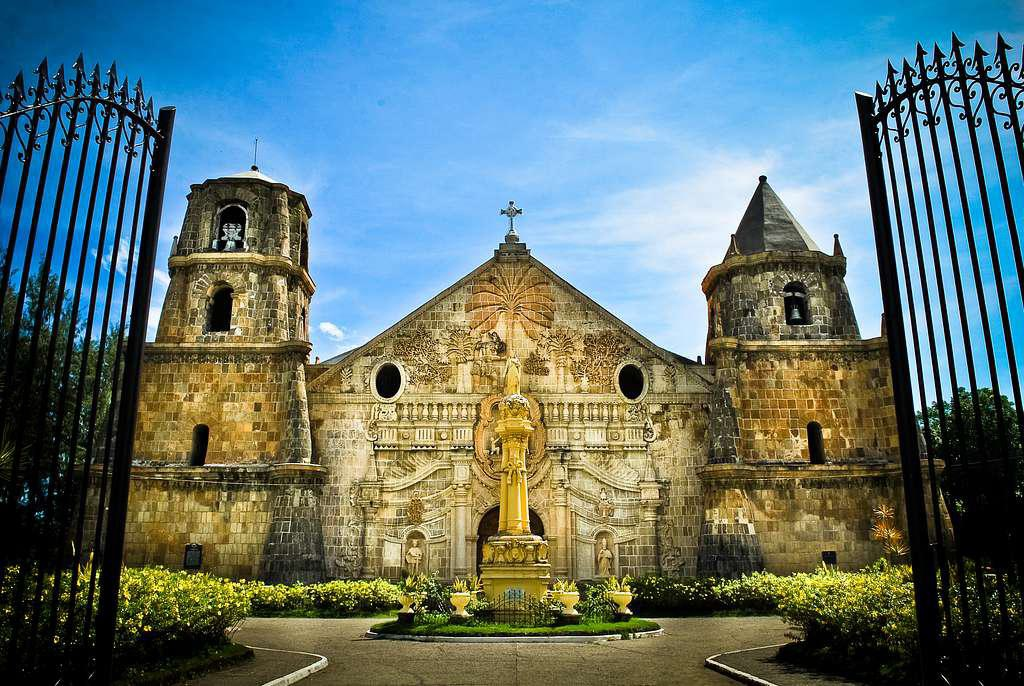miagao_church_miagao_iloilo: (99, 131, 945, 583)
